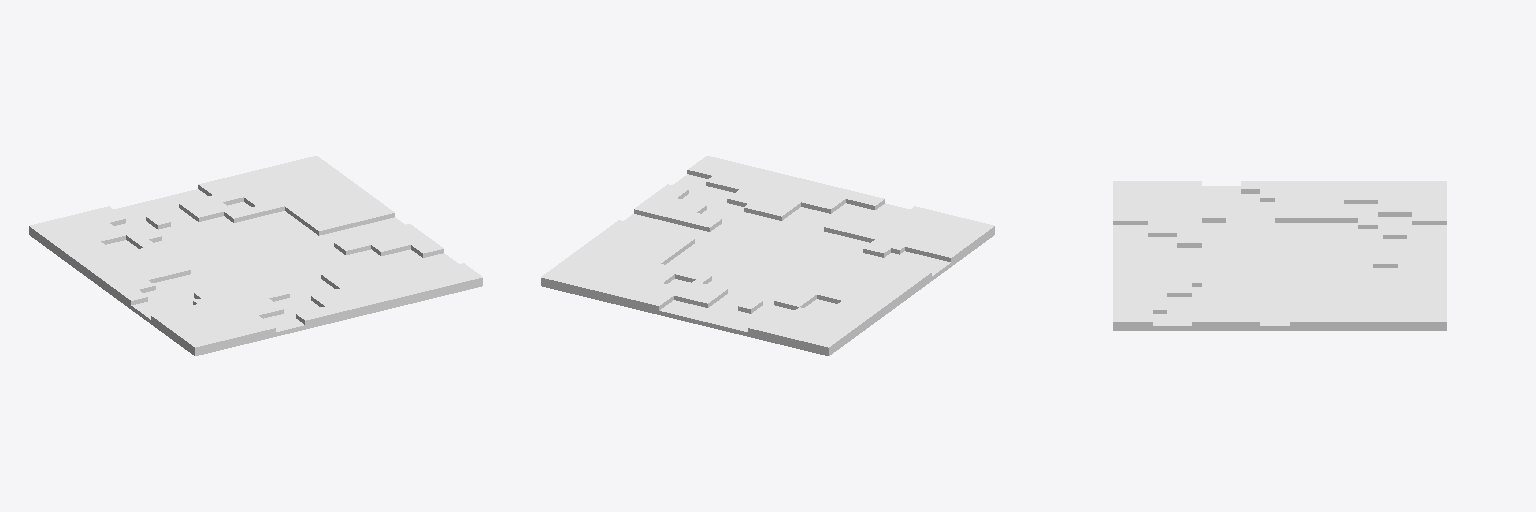
File: IcePanel.obj
3 renders of one model, left to right at view 1: azimuth 30°, elevation 25°; view 2: azimuth 150°, elevation 25°; view 3: azimuth 270°, elevation 25°, orthographic.
Visible parts, largest first — view 1: IcePanel; view 2: IcePanel; view 3: IcePanel.
Boxes of the visible parts, x1=… form: IcePanel: x1=29, y1=156, x2=482, y2=355; IcePanel: x1=541, y1=156, x2=994, y2=355; IcePanel: x1=1113, y1=181, x2=1446, y2=330.
Bounding box in the file's own units: 68 × 2 × 68.